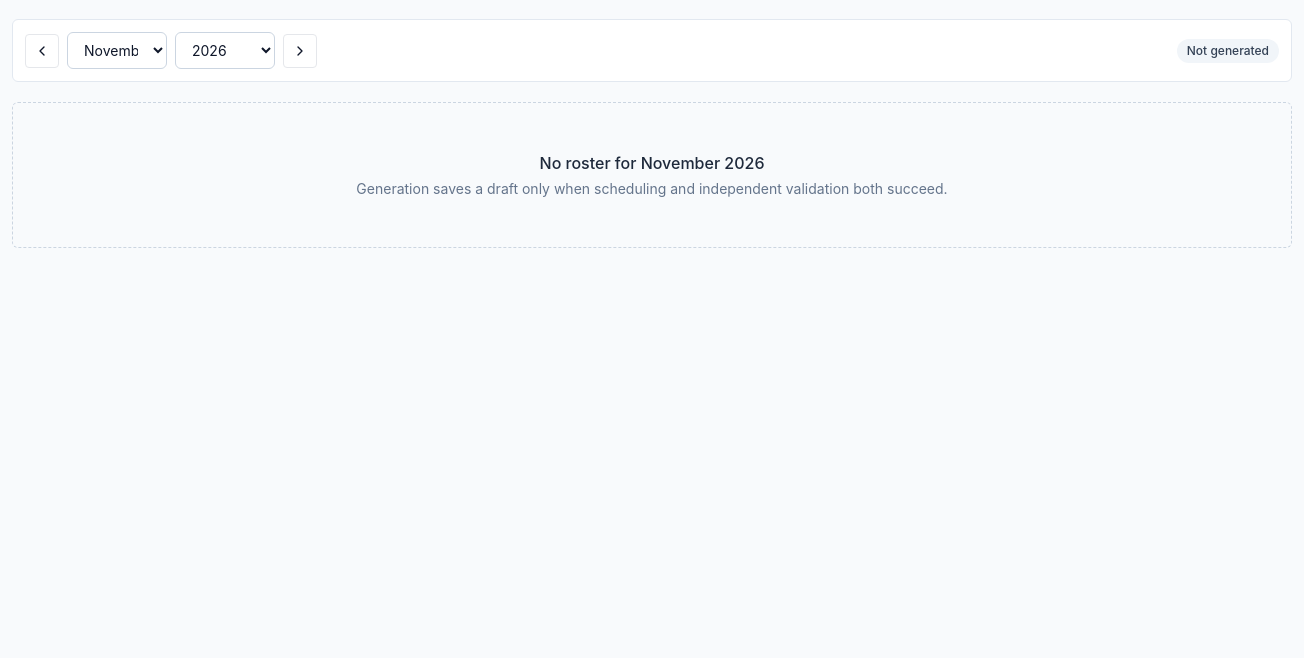
Scenario: Task 9 monthly roster › shows process-wise brands and assignments only after selecting a configured process
The width and height of the screenshot is (1304, 658).
Step 1. Select "December" in the dropdown named "Roster month" → (117, 50), box [67,32,167,69]
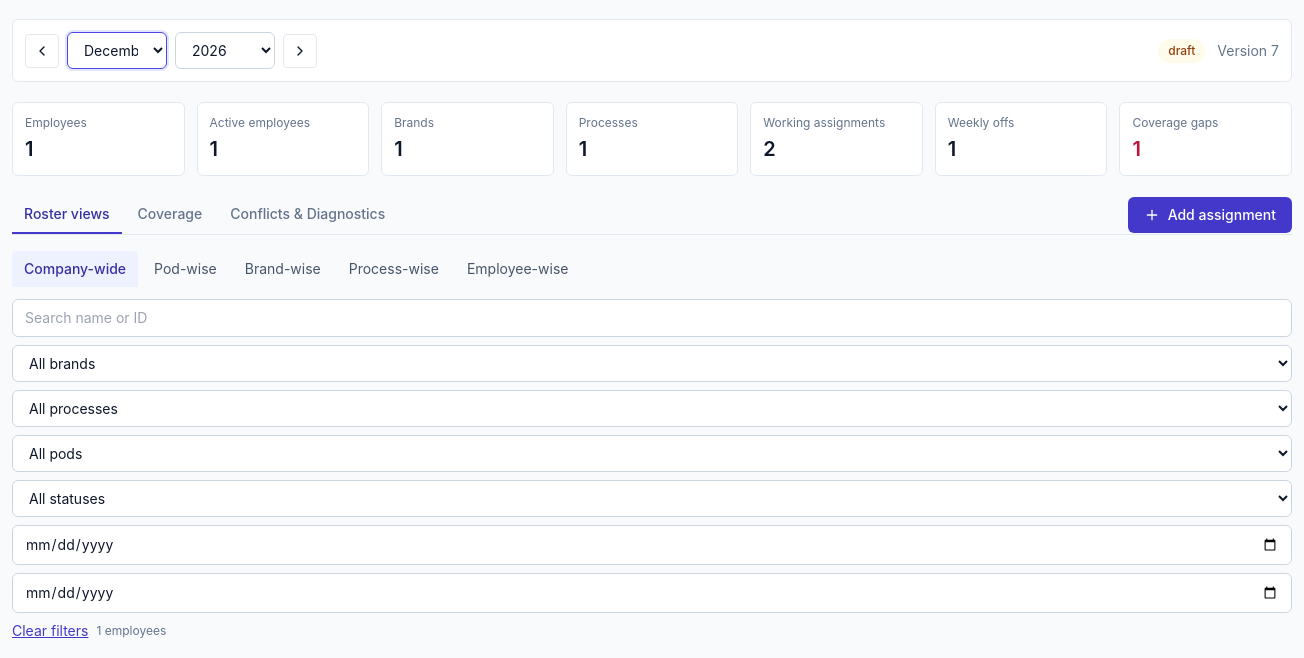
Step 2. Click the tab "Process-wise" → (394, 269), box [337,251,451,287]
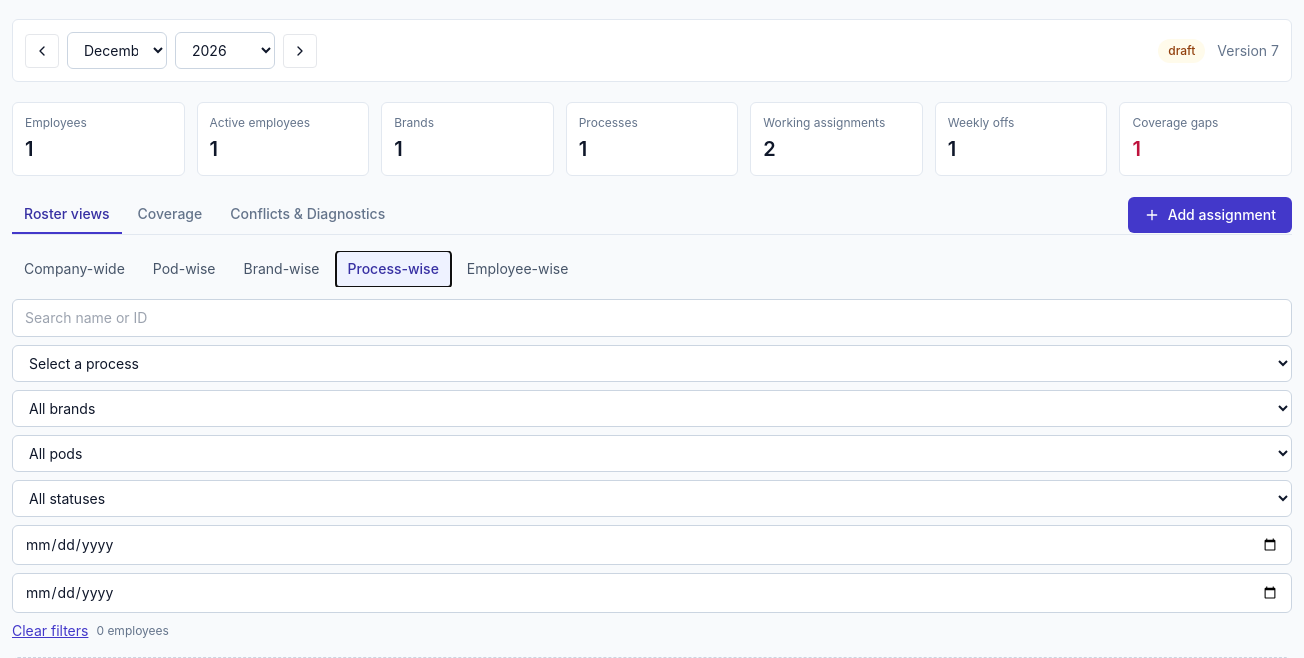
Step 3. Select "Support" in the dropdown named "Process-wise process selector" → (652, 364), box [12,345,1292,382]
(page scrolled)
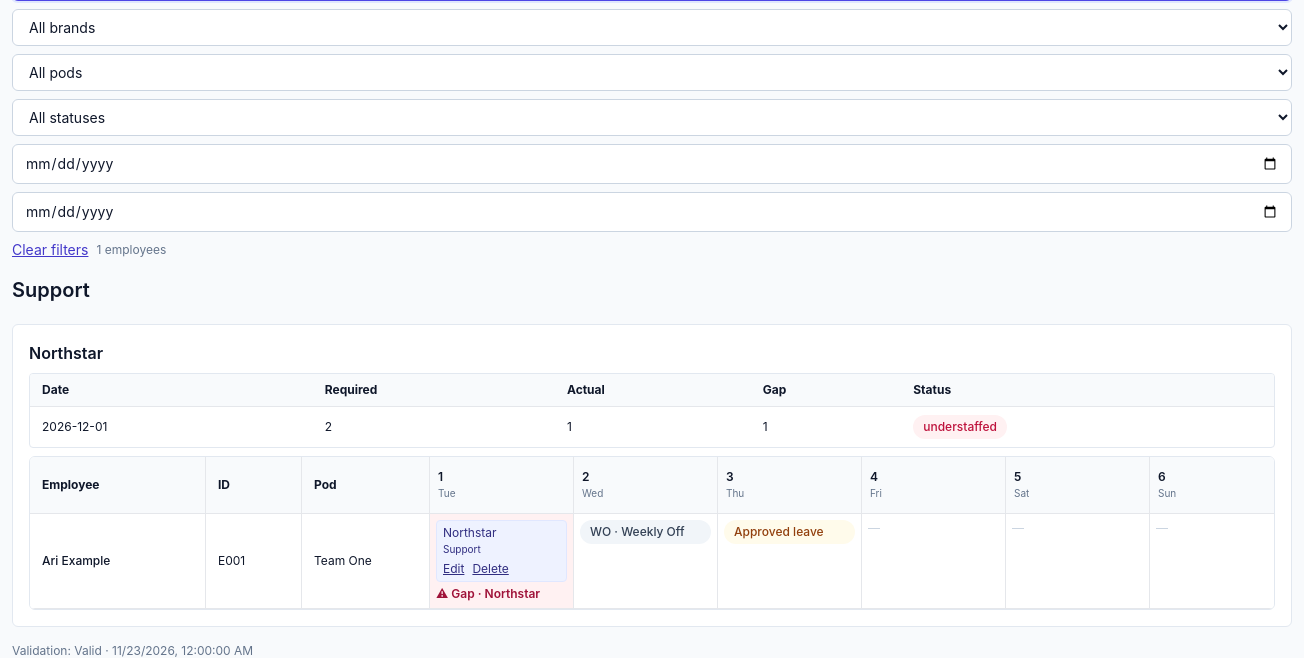
Result: the heading "Support" is shown at [12,278,90,302]
Result: the heading "Northstar" is shown at [29,343,103,363]
Result: the column heading "Ari Example" is shown at [30,514,206,609]
